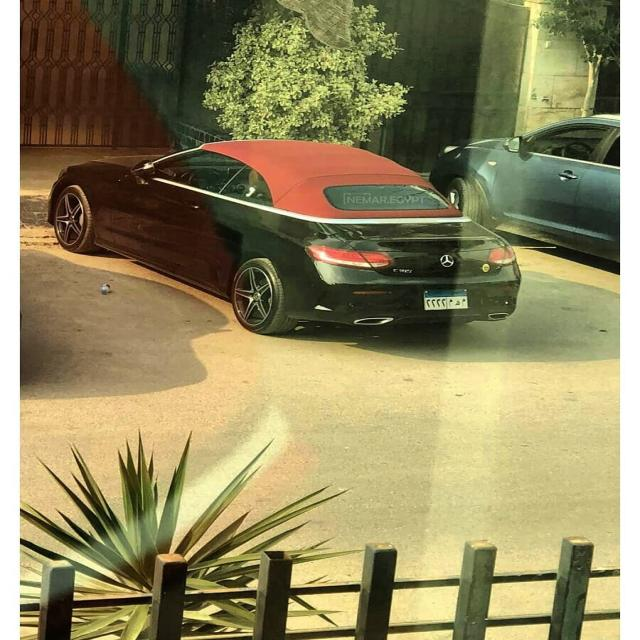License Plate: (422, 286, 470, 312)
